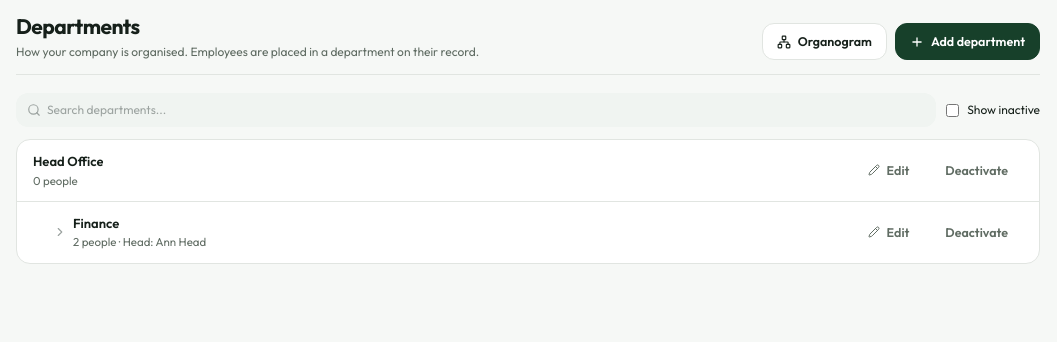
Departments page › lists the active departments as a tree, with their people and head
Expected: the list item "Finance 2 people · Head: Ann Head Edit Deactivate" is shown, x1=17 y1=201 x2=1039 y2=263
Expected: the text "Old Unit" is not shown
Click the checkbox labelled "Show inactive" at (953, 110), box x1=946 y1=104 x2=959 y2=116
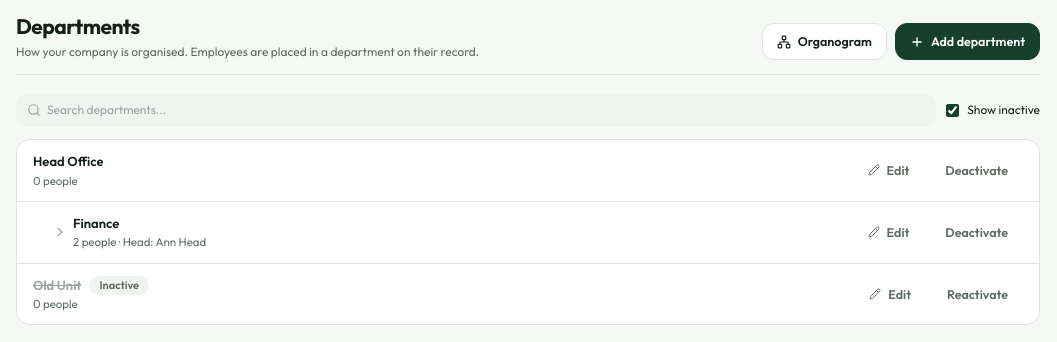
Expected: the text "Old Unit" is shown, x1=33 y1=276 x2=81 y2=295
